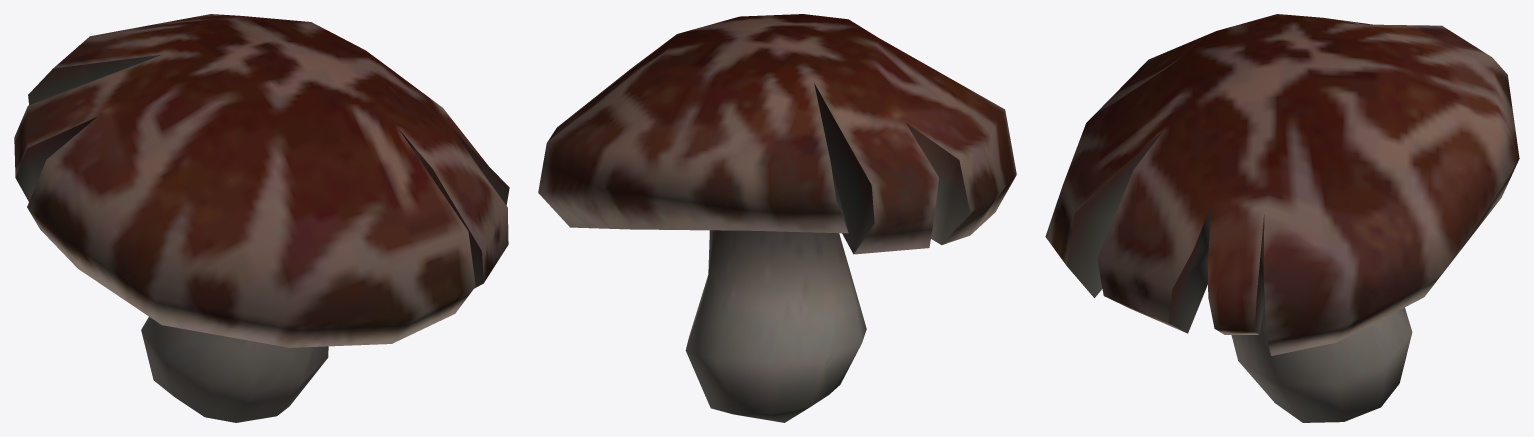
The model's file is Obj_MashroomAttack_A_01.glb.
3 views of the same model, side by side, from view 1: azimuth 30°, elevation 25°; view 2: azimuth 150°, elevation 25°; view 3: azimuth 270°, elevation 25° (orthographic). The views are drawn at different scales.
Parts seen in each view (by area): view 1: Obj_MashroomAttack_A_01; view 2: Obj_MashroomAttack_A_01; view 3: Obj_MashroomAttack_A_01.
Boxes of the visible parts, x1,y1,x2,y2 form: Obj_MashroomAttack_A_01: [14, 14, 509, 422]; Obj_MashroomAttack_A_01: [538, 14, 1016, 422]; Obj_MashroomAttack_A_01: [1045, 14, 1519, 422].
Bounding box in the file's own units: 0.7234 × 0.6092 × 0.7168.
Materials: 1 (1 with a texture image).
